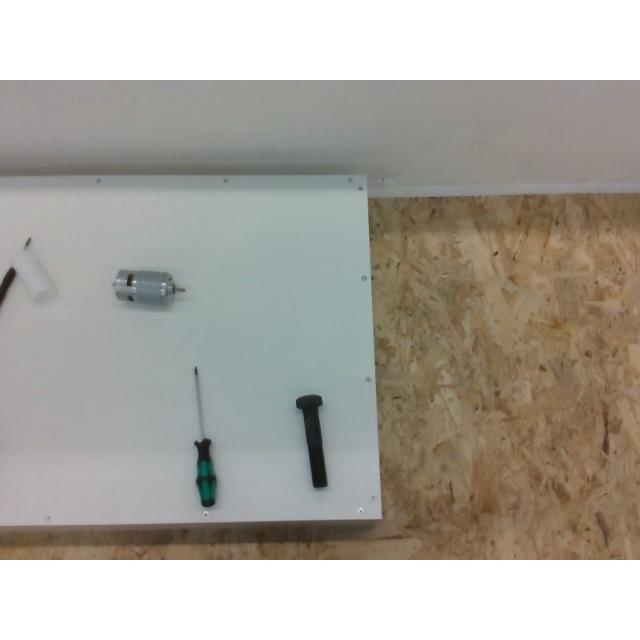M20_100: (296, 394, 328, 486)
Motor2: (112, 269, 176, 305)
Screwdriver: (195, 366, 218, 508)
Spacer: (11, 238, 54, 304)
